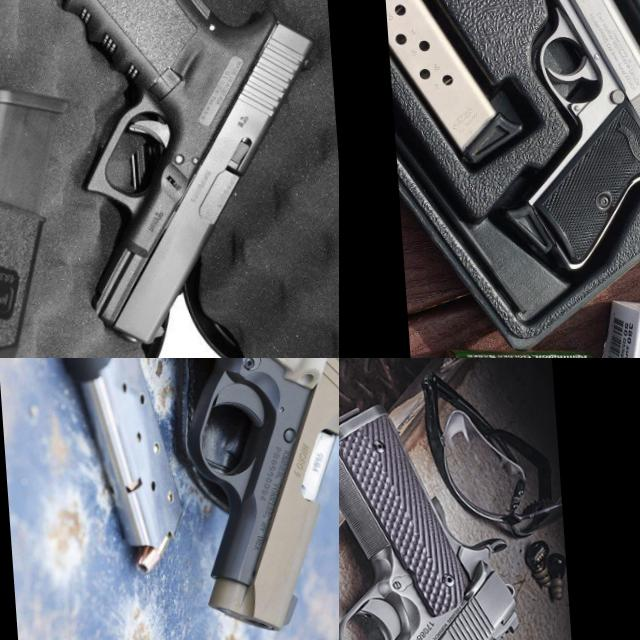handgun: (39, 0, 339, 356), (103, 358, 339, 640), (339, 391, 536, 640), (467, 0, 640, 283)
